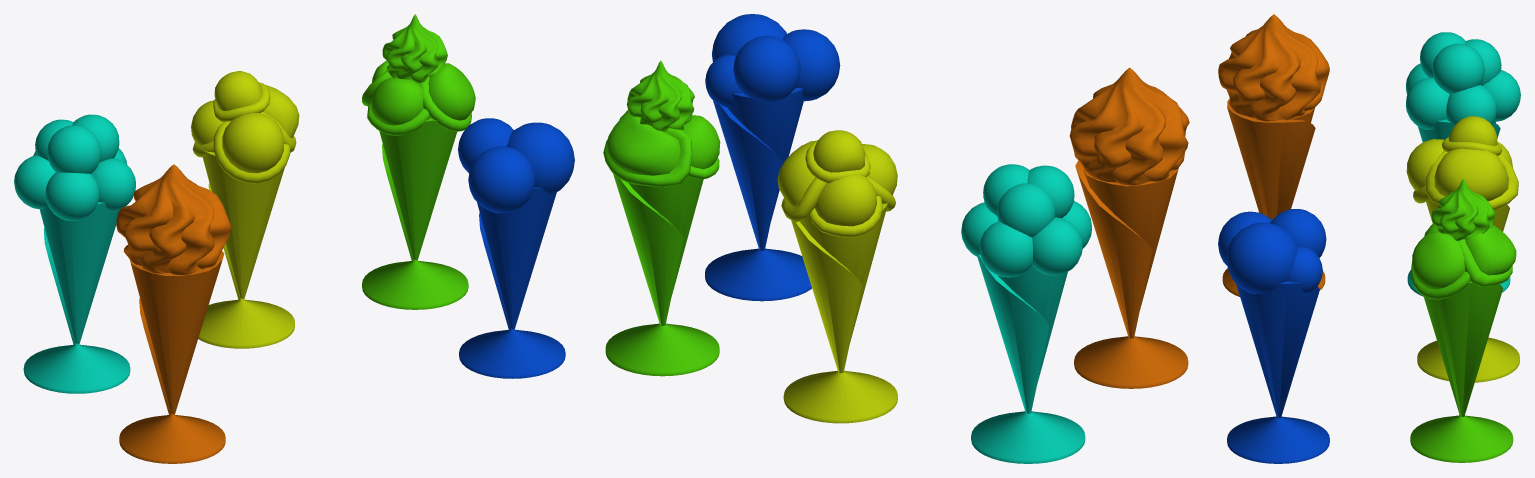
The model's file is icecream_1.fbx.
The picture shows the model from 3 angles, left to right: view 1: azimuth 30°, elevation 25°; view 2: azimuth 150°, elevation 25°; view 3: azimuth 270°, elevation 25°; orthographic projection. The views are drawn at different scales.
Parts seen in each view (by area): view 1: icecream_1_1, icecream_1_4, icecream_1_3, icecream_1_5, icecream_1_2; view 2: icecream_1_1, icecream_1_4, icecream_1_2, icecream_1_5, icecream_1_3; view 3: icecream_1_3, icecream_1_5, icecream_1_1, icecream_1_2, icecream_1_4.
Boxes of the visible parts, x1,y1,x2,y2 form: icecream_1_1: (116, 164, 231, 463); icecream_1_4: (14, 114, 135, 393); icecream_1_3: (362, 14, 475, 309); icecream_1_5: (458, 118, 574, 378); icecream_1_2: (191, 71, 299, 348); icecream_1_1: (1069, 67, 1189, 388); icecream_1_4: (961, 164, 1091, 463); icecream_1_2: (777, 130, 897, 423); icecream_1_5: (705, 14, 840, 301); icecream_1_3: (603, 60, 720, 376); icecream_1_3: (1410, 178, 1516, 462); icecream_1_5: (1218, 209, 1329, 463); icecream_1_1: (1218, 14, 1329, 296); icecream_1_2: (1406, 116, 1519, 382); icecream_1_4: (1406, 32, 1520, 296).
Size of the model in its own units: 393 by 234 by 240.
